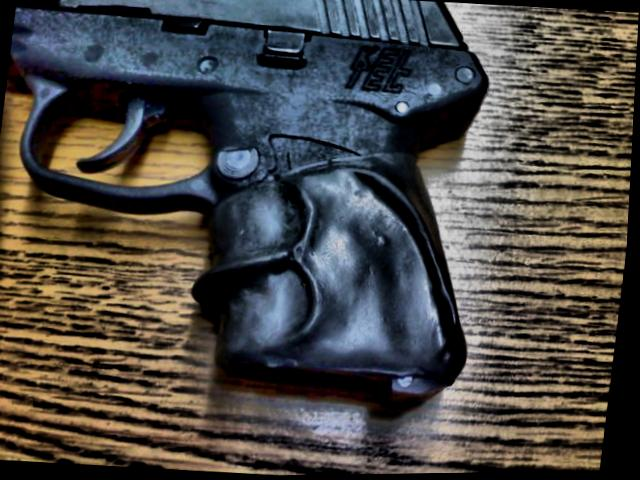pistol: (0, 0, 510, 417)
